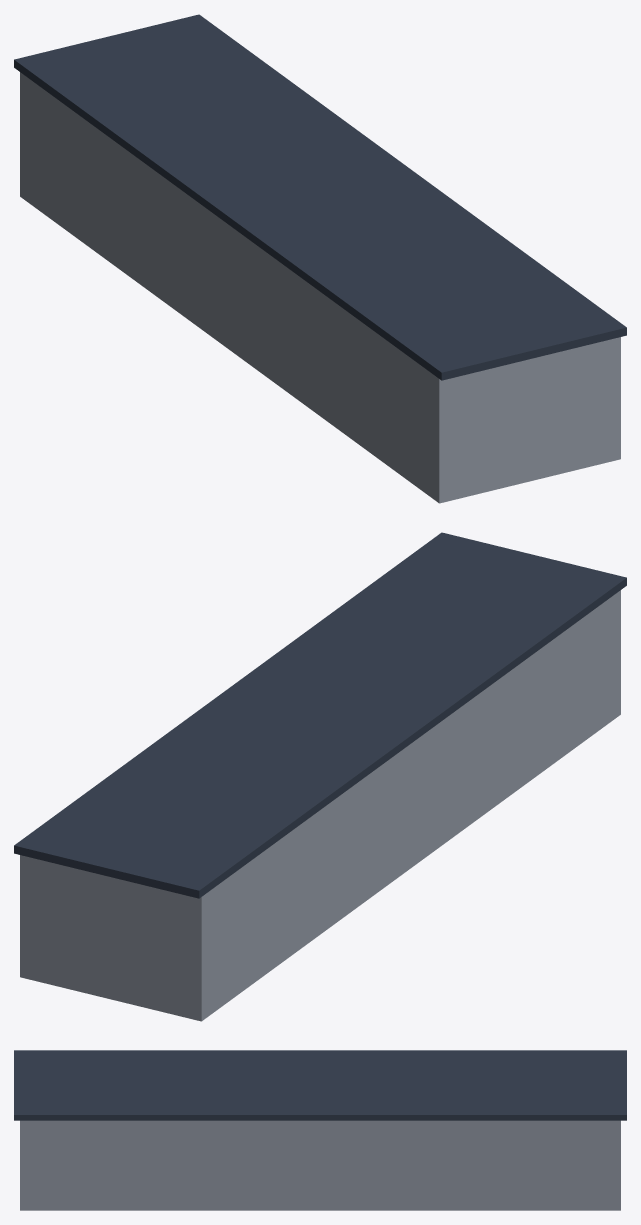
The model's file is pit.glb.
3 renders of one model, top to bottom at view 1: azimuth 30°, elevation 25°; view 2: azimuth 150°, elevation 25°; view 3: azimuth 270°, elevation 25°, orthographic. The views are drawn at different scales.
Parts seen in each view (by area): view 1: pit; view 2: pit; view 3: pit.
Boxes of the visible parts, x1=… form: pit: x1=14, y1=14, x2=626, y2=503; pit: x1=14, y1=532, x2=626, y2=1021; pit: x1=14, y1=1050, x2=626, y2=1210.
Bounding box in the file's own units: 5.1 × 3.53 × 20.4.
